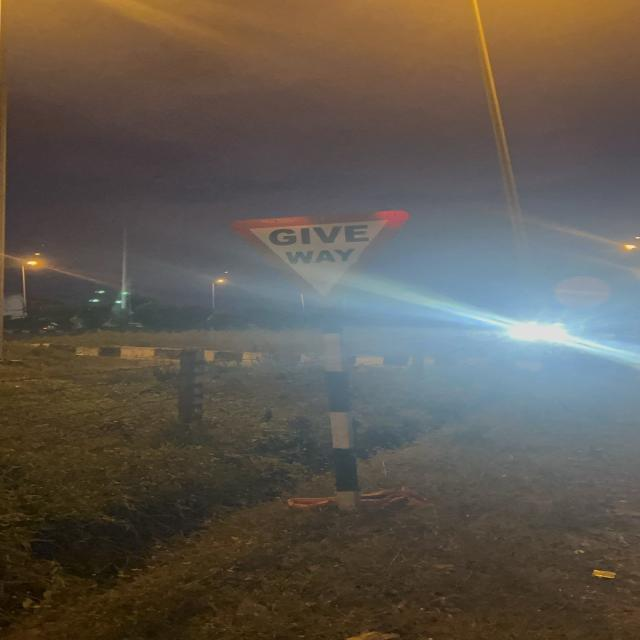giveway: (236, 212, 419, 305)
